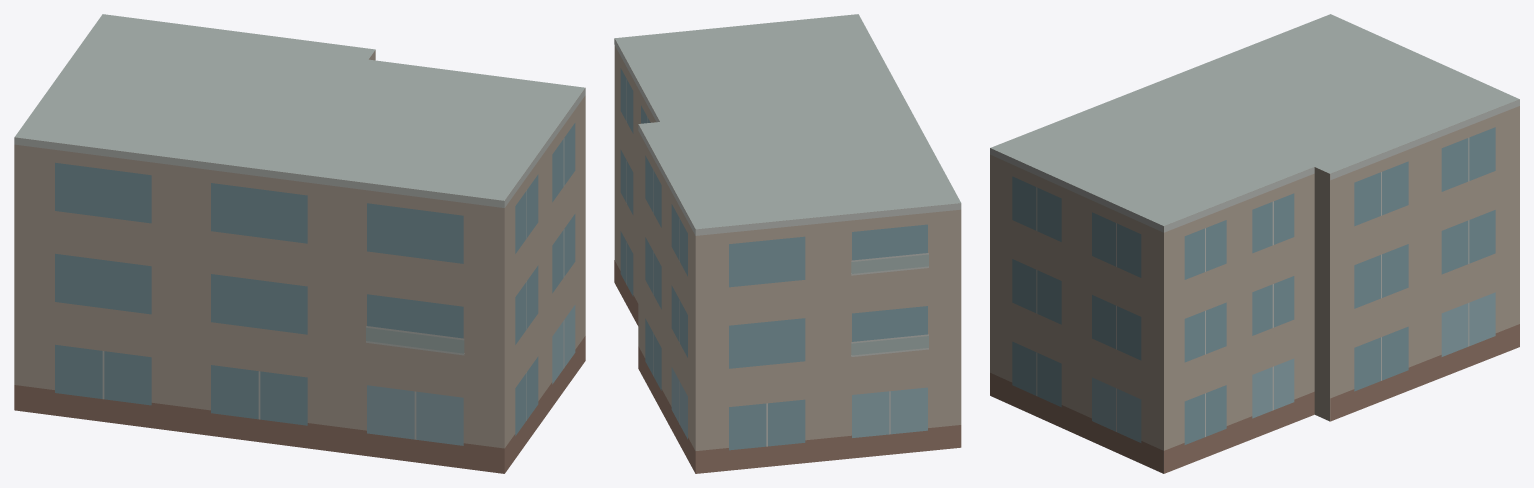
Rendered from survey-upis-32713445.glb.
The picture shows the model from 3 angles, left to right: view 1: azimuth 30°, elevation 25°; view 2: azimuth 150°, elevation 25°; view 3: azimuth 270°, elevation 25°; orthographic projection. The views are drawn at different scales.
Visible parts, largest first — view 1: survey-upis-32713445.tmp; view 2: survey-upis-32713445.tmp; view 3: survey-upis-32713445.tmp.
Part boxes in pixels (<box>): survey-upis-32713445.tmp: <box>14,14,585,473</box>; survey-upis-32713445.tmp: <box>614,14,961,473</box>; survey-upis-32713445.tmp: <box>990,14,1519,473</box>.
Size of the model in its own units: 16.82 by 9.15 by 17.74.
